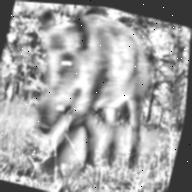boar: (5, 1, 176, 182)
